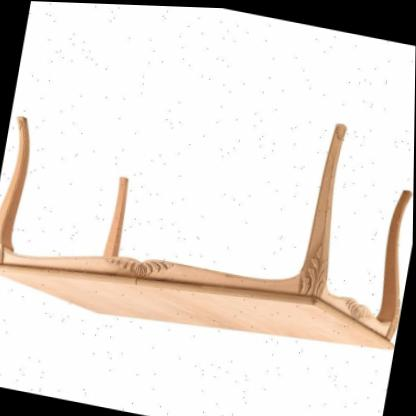Table: (0, 49, 415, 410)
